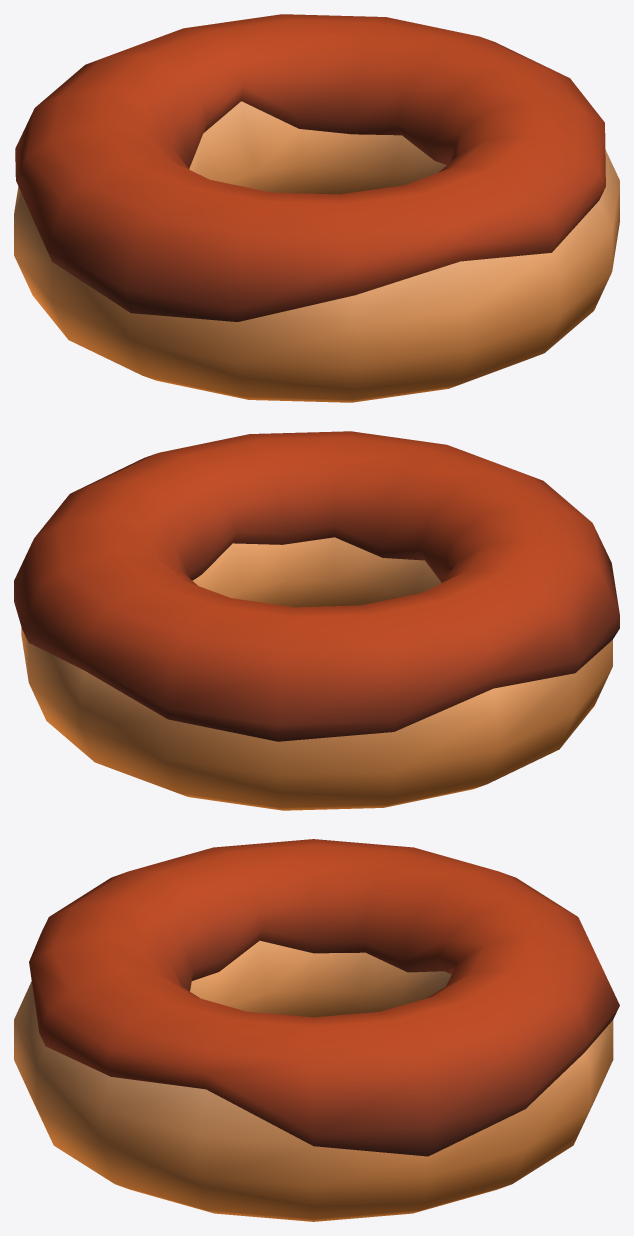
The model's file is donut_002.glb.
3 renders of one model, top to bottom at view 1: azimuth 30°, elevation 25°; view 2: azimuth 150°, elevation 25°; view 3: azimuth 270°, elevation 25°, orthographic. The views are drawn at different scales.
Visible parts, largest first — view 1: donut_002; view 2: donut_002; view 3: donut_002.
Boxes of the visible parts, <box> form: donut_002: <box>14,14,619,402</box>; donut_002: <box>14,431,619,810</box>; donut_002: <box>14,839,619,1221</box>.
Size of the model in its own units: 0.1067 by 0.0363 by 0.1055.
Materials: 1 (1 with a texture image).
